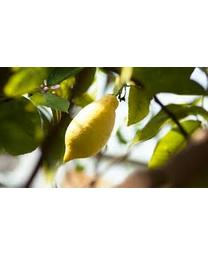lemon: (63, 93, 119, 161)
